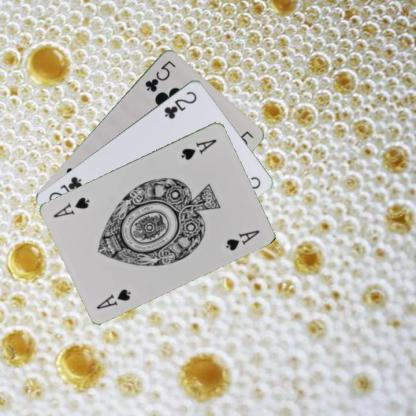2c: (161, 88, 198, 120)
5c: (142, 57, 178, 93)
As: (178, 135, 218, 161), (94, 286, 132, 310)
